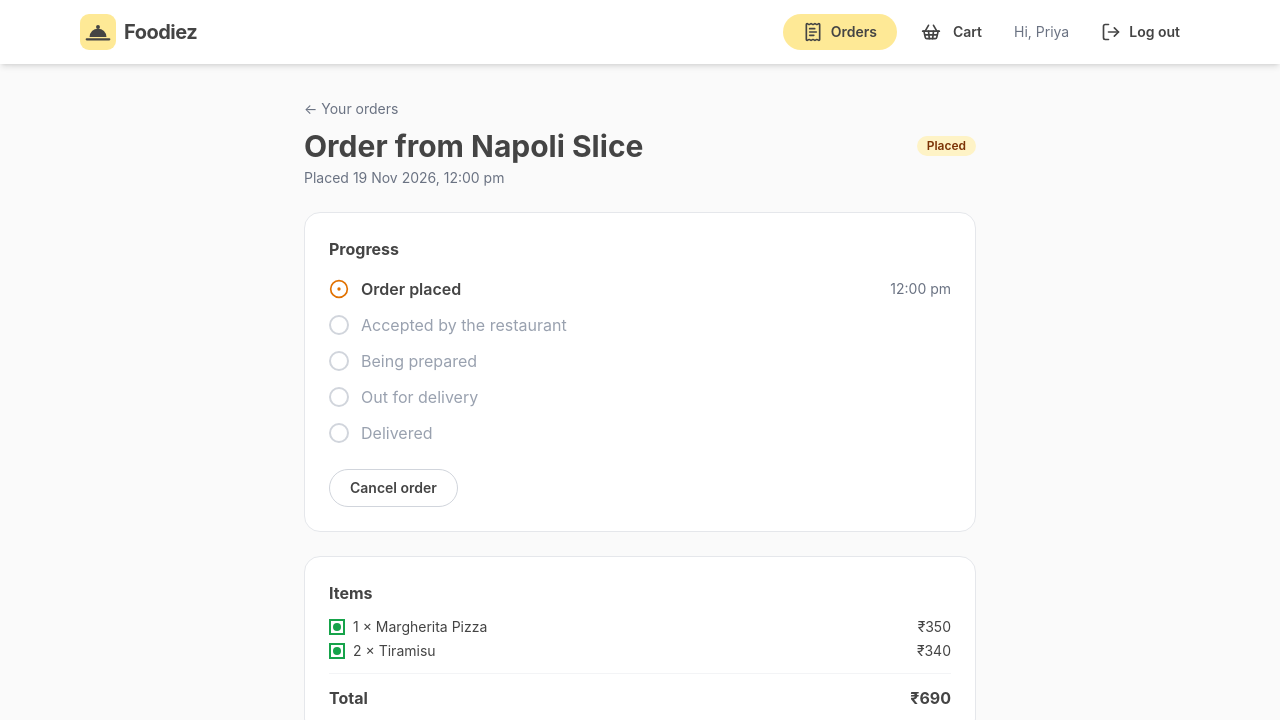
Scenario: tracking an order › lets the customer cancel before the restaurant accepts
Click the button "Cancel order".
click(393, 488)  # box [329,469,458,507]
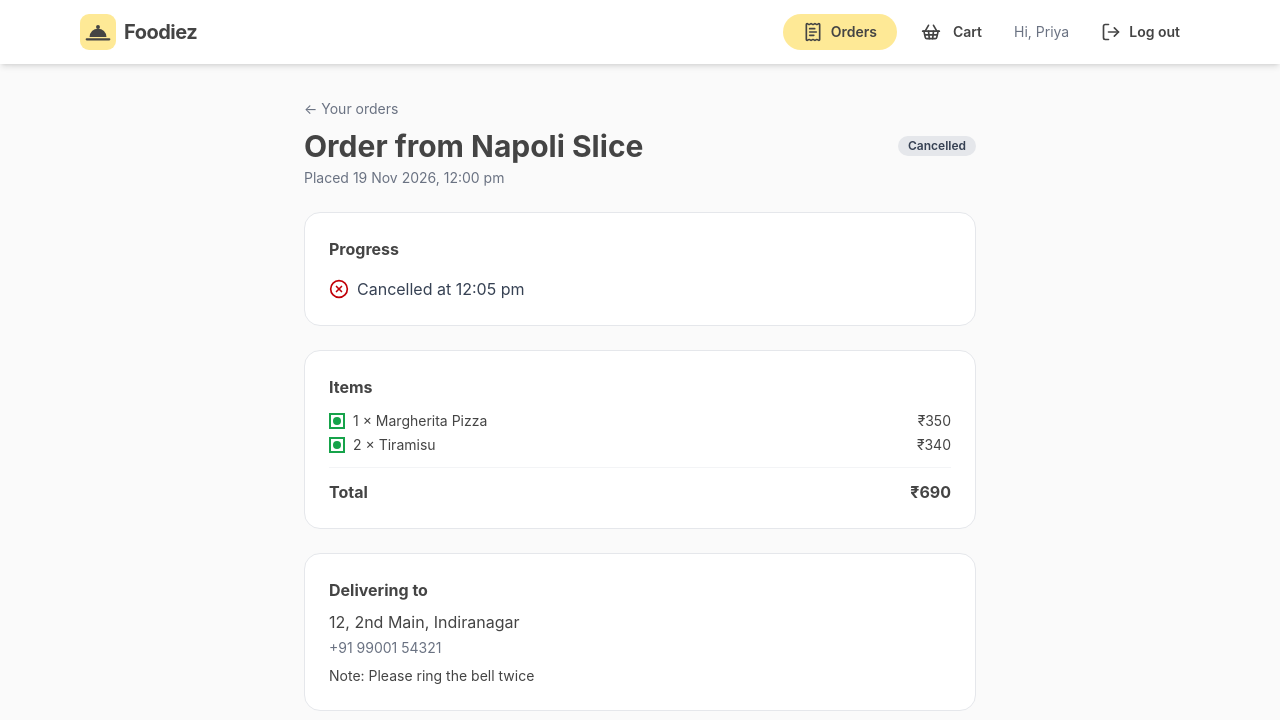
Expected: the text "Cancelled at 12:05 pm" is shown, [329,279,524,299]
